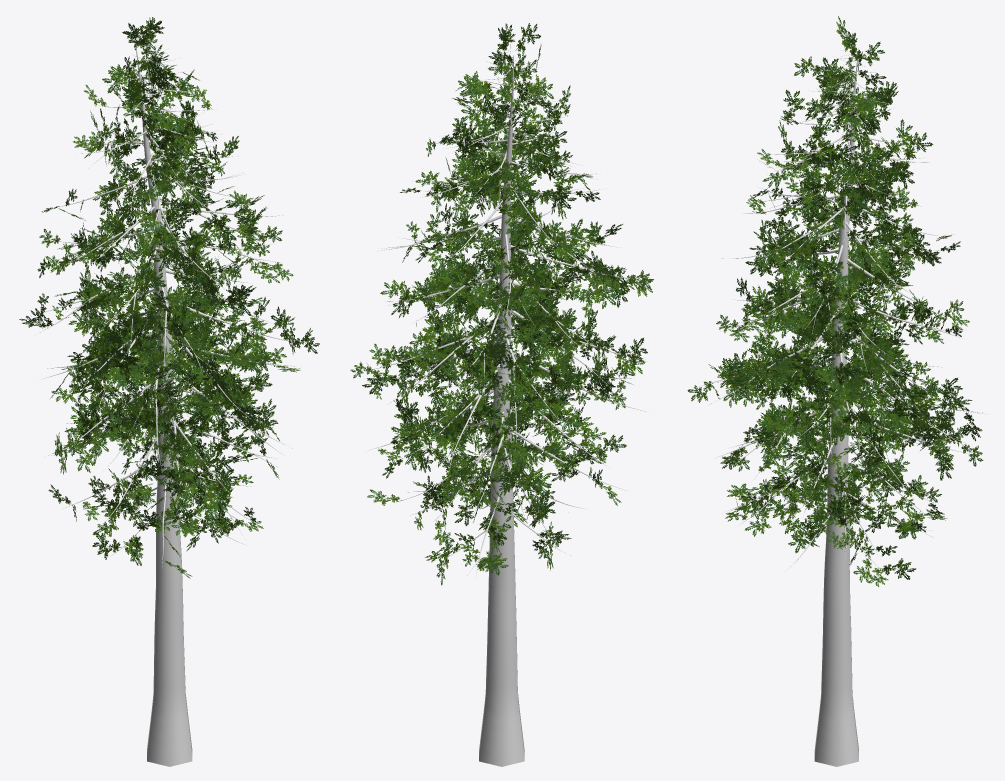
Rendered from grote bomen #2.fbx.
3 renders of one model, left to right at view 1: azimuth 30°, elevation 25°; view 2: azimuth 150°, elevation 25°; view 3: azimuth 270°, elevation 25°, orthographic. The views are drawn at different scales.
Visible parts, largest first — view 1: Plane.365, tree.003; view 2: Plane.365, tree.003; view 3: Plane.365, tree.003.
Boxes of the visible parts, left/top/right/bottom form: Plane.365: left=19, top=17, right=319, bottom=578; tree.003: left=36, top=36, right=305, bottom=766; Plane.365: left=350, top=23, right=653, bottom=585; tree.003: left=367, top=42, right=647, bottom=766; Plane.365: left=687, top=16, right=983, bottom=586; tree.003: left=699, top=45, right=986, bottom=766.
Bounding box in the file's own units: 70.86 × 194 × 74.07.
